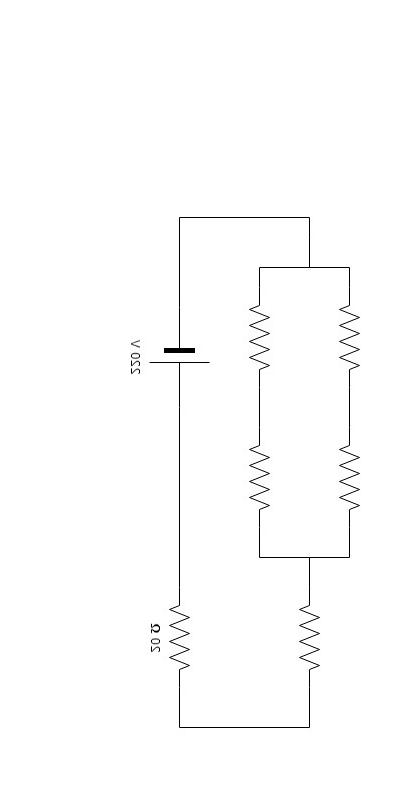resistor: (272, 582, 339, 706), (232, 421, 296, 509), (319, 280, 371, 368), (321, 426, 373, 513), (161, 582, 208, 678), (236, 284, 283, 374)
